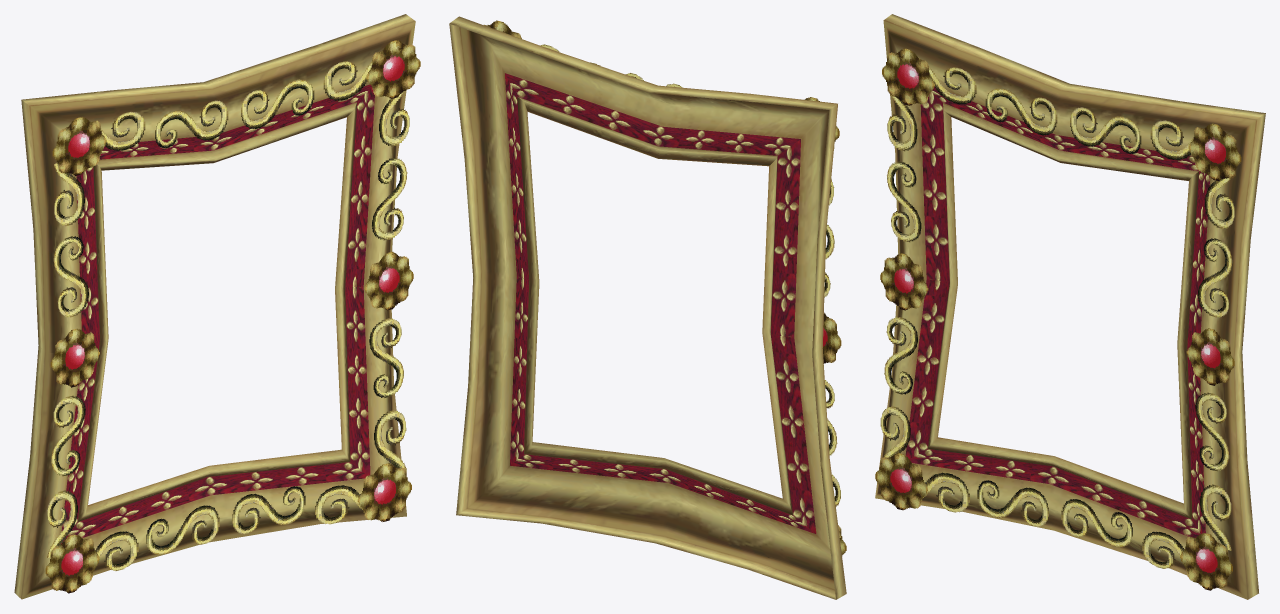
Rendered from a-fram-1.glb.
3 renders of one model, left to right at view 1: azimuth 30°, elevation 25°; view 2: azimuth 150°, elevation 25°; view 3: azimuth 330°, elevation 25°, orthographic. The views are drawn at different scales.
Visible parts, largest first — view 1: a_fram_1; view 2: a_fram_1; view 3: a_fram_1.
Boxes of the visible parts, box(x1,y1,x2,y2) form: a_fram_1: box(14, 14, 420, 599); a_fram_1: box(449, 16, 846, 599); a_fram_1: box(875, 14, 1265, 599).
Bounding box in the file's own units: 228 × 278 × 21.
4 materials, 4 textured.
